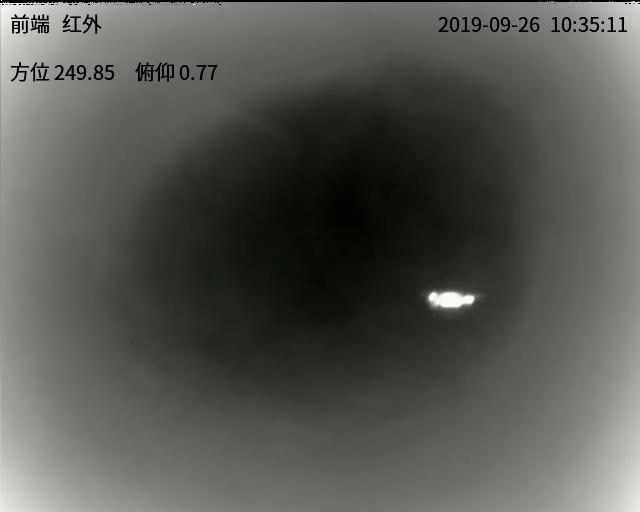uav: (426, 288, 477, 310)
